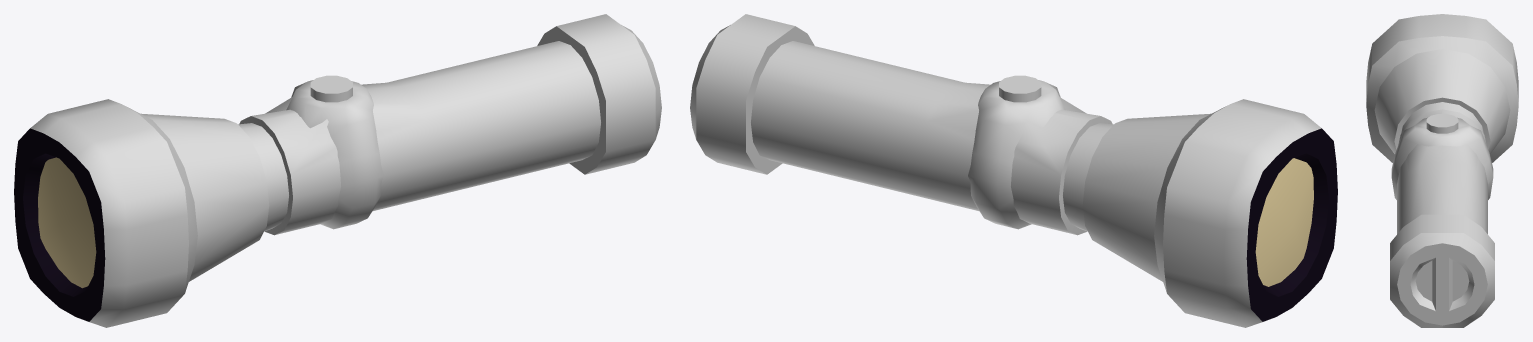
Rendered from latern.fbx.
The picture shows the model from 3 angles, left to right: view 1: azimuth 30°, elevation 25°; view 2: azimuth 150°, elevation 25°; view 3: azimuth 270°, elevation 25°; orthographic projection. The views are drawn at different scales.
Visible parts, largest first — view 1: lantern_low; view 2: lantern_low; view 3: lantern_low.
Part boxes in pixels (x1,y1,x2,y2): lantern_low: (14,14,661,327); lantern_low: (690,14,1337,327); lantern_low: (1366,14,1518,327).
Size of the model in its own units: 54.13 by 16.8 by 16.8.
